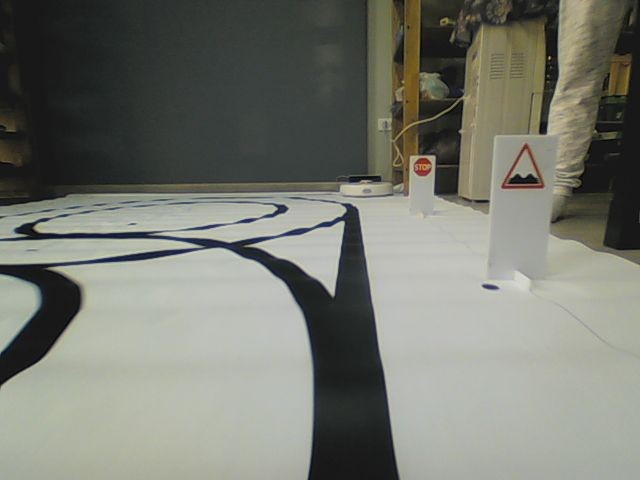Stop: (411, 157, 432, 177)
